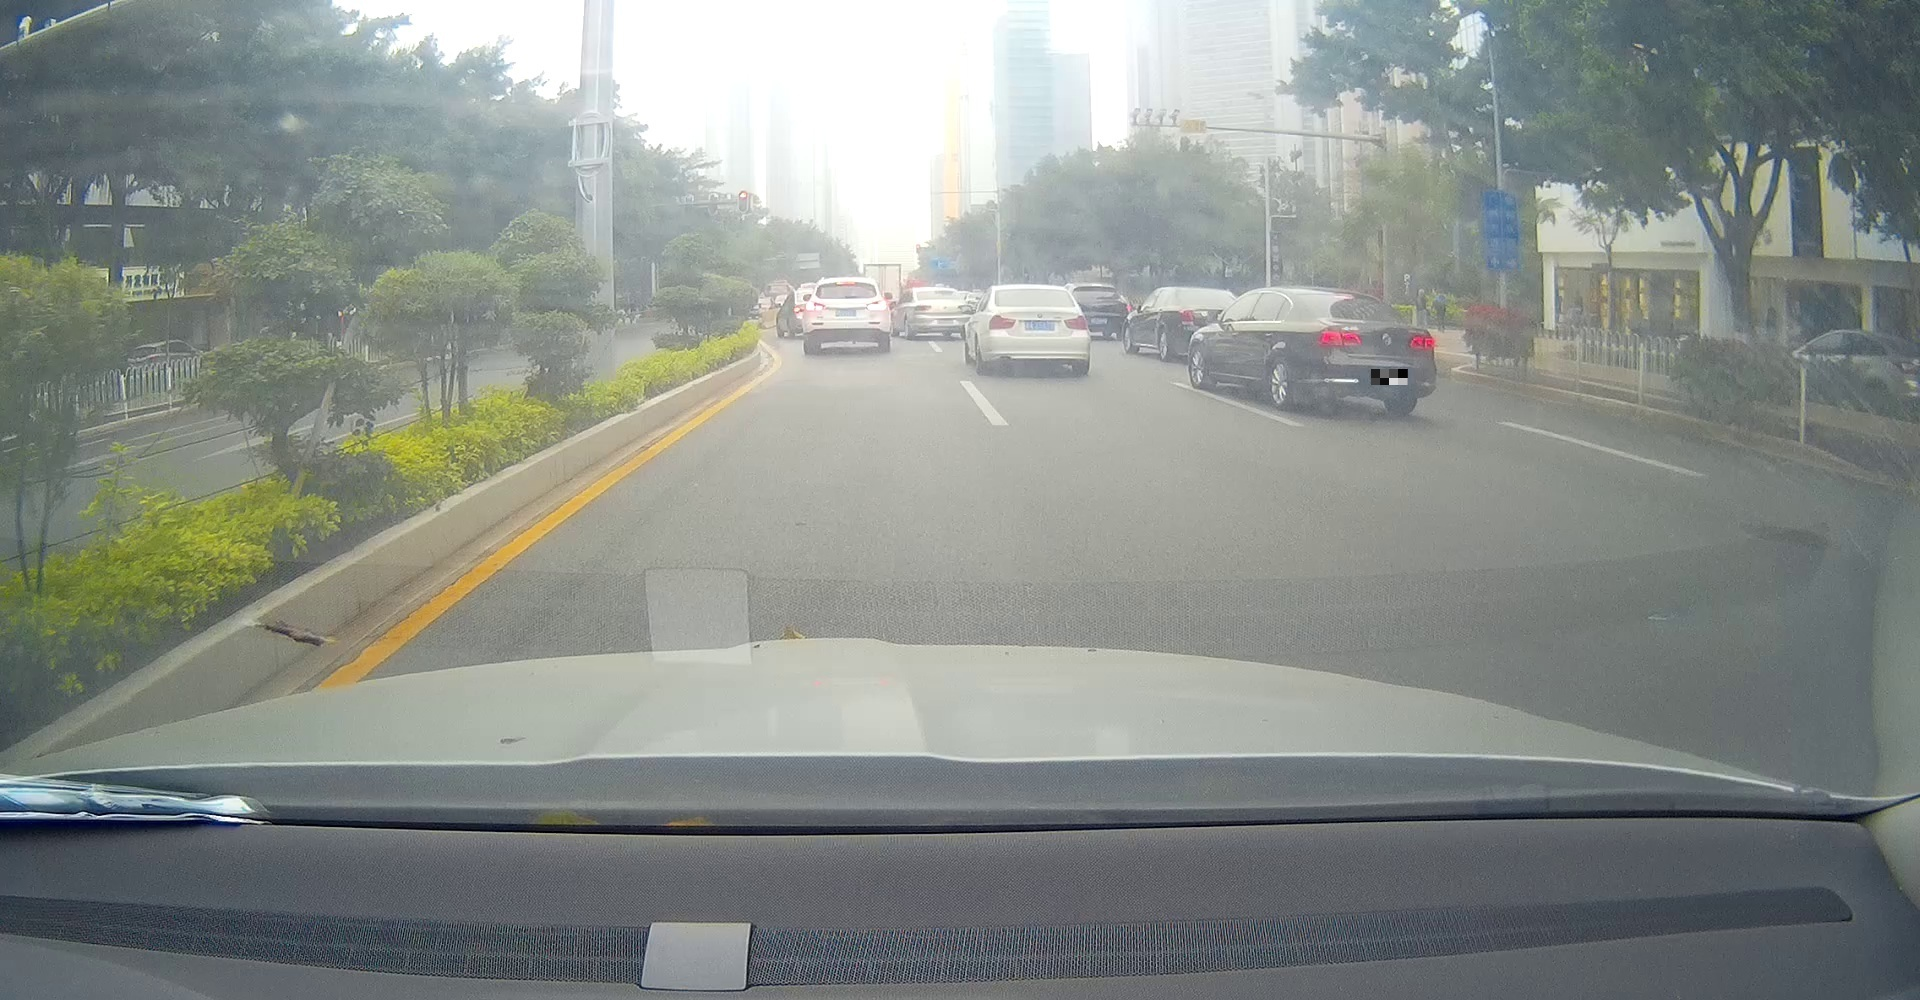L_light: (1318, 330, 1363, 346), (988, 313, 1016, 330), (806, 301, 827, 311)
R_light: (1410, 335, 1436, 350), (1064, 313, 1088, 330), (866, 299, 886, 310)
T_light: (836, 280, 855, 286), (1335, 294, 1354, 299), (1025, 289, 1039, 293)
day-brake: (1297, 287, 1437, 415), (804, 277, 891, 353)
day-no: (985, 284, 1091, 376)
plate_1: (1371, 369, 1408, 385)
